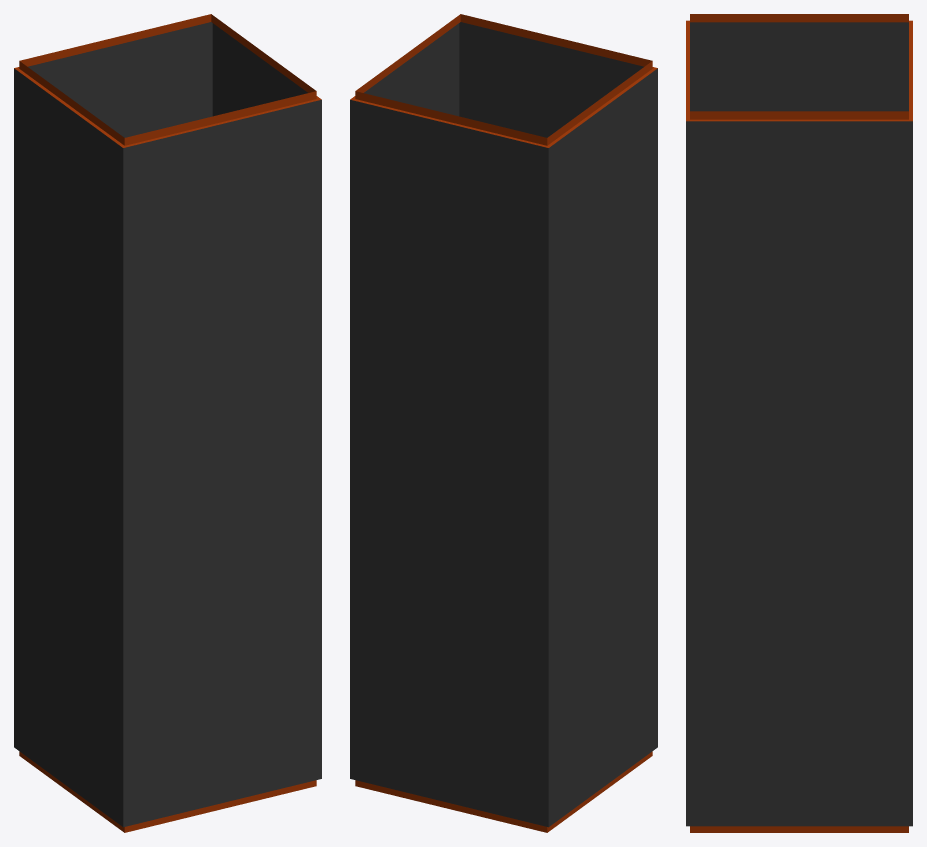
The model's file is Columna.fbx.
The picture shows the model from 3 angles, left to right: view 1: azimuth 30°, elevation 25°; view 2: azimuth 150°, elevation 25°; view 3: azimuth 270°, elevation 25°; orthographic projection. The views are drawn at different scales.
Parts seen in each view (by area): view 1: Columna; view 2: Columna; view 3: Columna.
Boxes of the visible parts, bbox=[...] form: Columna: bbox=[14, 14, 321, 832]; Columna: bbox=[350, 14, 657, 832]; Columna: bbox=[686, 14, 912, 832].
Size of the model in its own units: 105 by 351 by 100.
